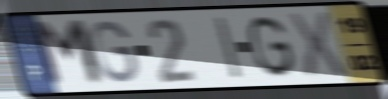2: (146, 16, 200, 86)
G: (88, 18, 141, 85), (246, 13, 297, 80)
I: (212, 14, 246, 82)
M: (29, 18, 109, 90)
X: (284, 11, 350, 81)
